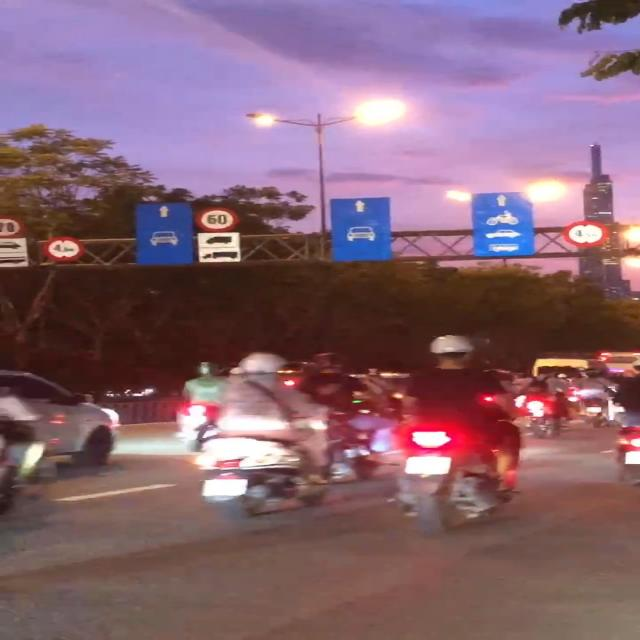Bien bao han che chieu cao: (564, 219, 609, 247), (38, 237, 85, 261)
Bien bao toc do toi da cho phep: (194, 207, 243, 231)
